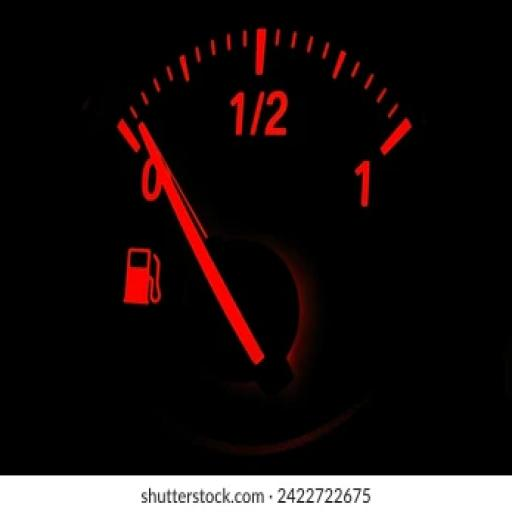empty: (140, 148, 160, 202), (141, 122, 141, 128)
fuel_icon: (122, 240, 164, 312)
full: (354, 155, 372, 208)
guage_area: (59, 20, 430, 434)
needle_center: (177, 230, 311, 384)
needle_tip: (134, 116, 156, 147)
